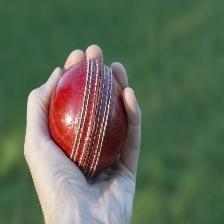Sports-Ball: (47, 64, 128, 177)
